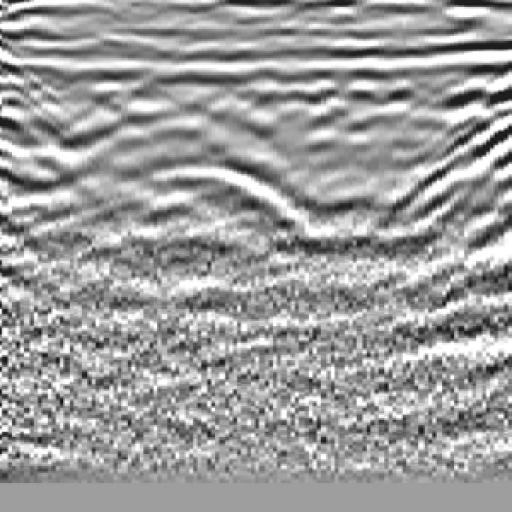metalic: (112, 125, 322, 276)
nonmetalic: (367, 28, 512, 284)
